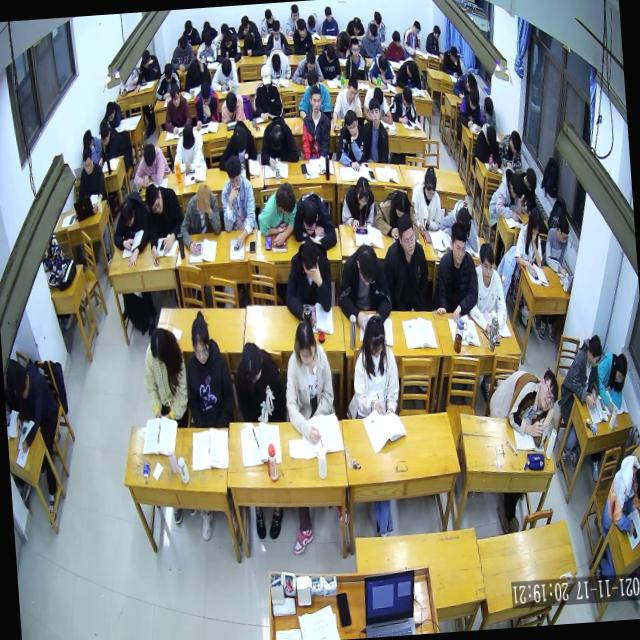bow: (486, 364, 562, 453), (108, 190, 151, 268), (254, 180, 300, 248), (290, 188, 338, 252), (372, 186, 419, 243), (258, 112, 300, 172), (215, 118, 257, 173), (485, 166, 526, 221), (438, 197, 478, 253), (130, 140, 172, 188), (472, 120, 501, 169), (360, 82, 392, 125), (366, 50, 397, 90), (208, 56, 240, 92), (182, 58, 211, 94), (219, 88, 246, 122), (394, 57, 420, 91), (451, 70, 479, 100), (96, 98, 122, 130), (241, 25, 264, 58), (332, 29, 353, 59)
down: (290, 316, 318, 369), (188, 310, 212, 366), (238, 338, 263, 384), (365, 312, 388, 360), (354, 242, 378, 286), (298, 236, 322, 278), (148, 324, 170, 368), (12, 360, 32, 402), (299, 200, 320, 238), (193, 181, 213, 218), (224, 154, 243, 192), (276, 180, 296, 216), (144, 182, 164, 216), (421, 165, 438, 202), (118, 197, 136, 230), (587, 334, 603, 370), (555, 212, 571, 248), (506, 170, 524, 201), (353, 176, 371, 207), (266, 120, 284, 151), (612, 350, 628, 384), (526, 205, 542, 238), (392, 190, 409, 219), (180, 122, 196, 152), (232, 122, 248, 151), (141, 142, 157, 170), (198, 80, 212, 109), (223, 90, 239, 115), (98, 117, 112, 145), (259, 63, 273, 91), (523, 166, 538, 192), (466, 85, 481, 111), (508, 129, 522, 155), (482, 92, 497, 116), (483, 122, 496, 148), (304, 65, 318, 89), (631, 466, 640, 503), (162, 60, 175, 84), (346, 76, 358, 101), (187, 58, 201, 79), (270, 19, 282, 42), (82, 129, 94, 151), (220, 55, 232, 77), (376, 52, 388, 74), (103, 100, 116, 120), (464, 72, 477, 92), (140, 48, 152, 69), (406, 59, 418, 80), (270, 52, 282, 72), (304, 50, 316, 70), (222, 30, 234, 50), (324, 44, 336, 64), (295, 17, 306, 38), (373, 86, 384, 106), (339, 30, 350, 50), (367, 21, 378, 41), (202, 34, 214, 52), (372, 8, 382, 29), (449, 44, 459, 64), (240, 14, 250, 34), (324, 4, 334, 24), (411, 19, 422, 37), (182, 18, 193, 36), (178, 34, 188, 53), (431, 23, 441, 41), (264, 6, 274, 24), (243, 32, 254, 48), (306, 12, 316, 29), (352, 16, 362, 33), (290, 3, 299, 21)
lookup: (536, 366, 560, 412), (396, 216, 417, 256), (448, 220, 467, 264), (478, 241, 497, 283), (343, 107, 360, 139), (79, 146, 95, 177), (309, 87, 322, 113), (169, 82, 182, 108), (368, 97, 380, 123), (401, 86, 414, 107), (349, 36, 360, 59)
sit: (280, 316, 338, 445), (181, 313, 235, 432), (348, 312, 402, 419), (139, 322, 191, 429), (429, 221, 481, 324), (334, 240, 392, 332), (9, 353, 61, 455), (279, 233, 336, 325), (379, 211, 430, 312), (230, 337, 285, 424), (465, 238, 509, 338), (141, 178, 187, 267), (556, 332, 606, 412), (218, 152, 258, 252), (597, 451, 640, 538), (175, 180, 222, 258), (296, 85, 332, 162), (407, 165, 442, 238), (512, 206, 546, 281), (594, 348, 632, 414), (359, 95, 391, 164), (338, 176, 378, 230), (328, 75, 364, 135), (74, 146, 106, 213), (250, 61, 285, 122), (540, 212, 572, 278), (334, 106, 367, 170), (294, 65, 332, 119), (171, 120, 208, 174), (161, 82, 193, 134), (190, 78, 220, 130), (95, 119, 128, 164), (131, 47, 162, 93), (496, 126, 524, 174), (456, 86, 484, 132), (289, 50, 324, 86), (388, 84, 418, 124), (262, 18, 291, 58), (342, 34, 367, 80), (154, 62, 182, 100), (168, 34, 196, 72), (215, 26, 242, 64), (316, 43, 342, 80), (358, 21, 384, 58), (265, 46, 292, 81), (401, 16, 424, 56), (290, 16, 314, 54), (441, 44, 464, 80), (338, 158, 374, 180), (195, 31, 218, 65), (384, 28, 406, 62), (282, 3, 304, 36), (479, 94, 498, 130), (423, 22, 442, 58), (319, 2, 339, 35), (180, 16, 201, 46), (258, 6, 277, 38), (344, 14, 366, 40), (304, 8, 322, 36)
